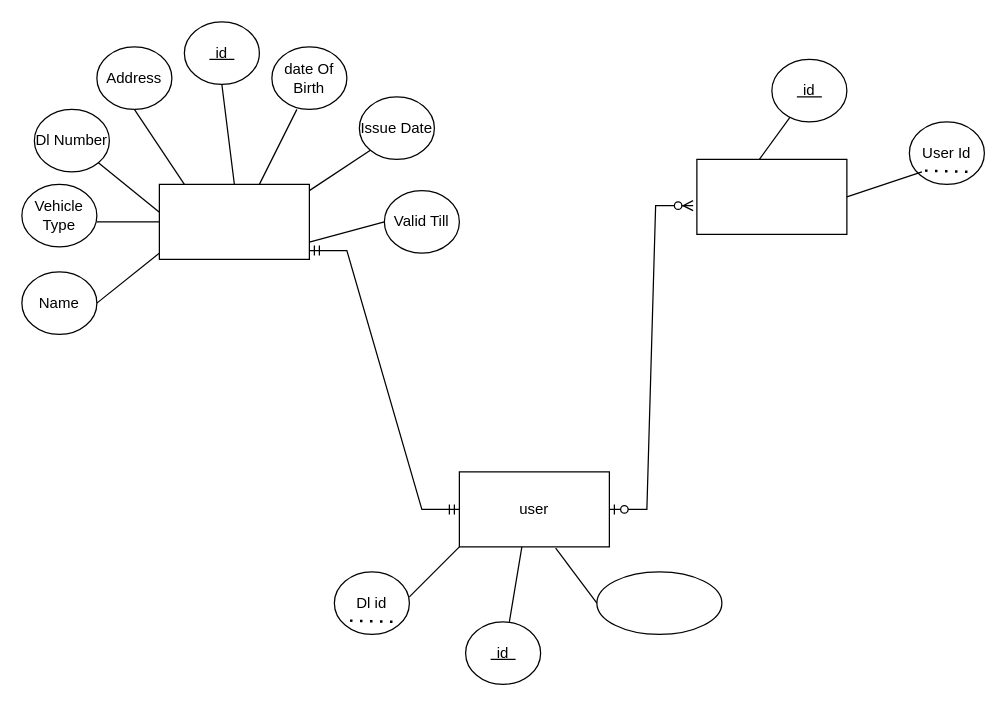
This 1006x706 diagram has some shape labels left out. The shapes that lost their labels are listed below. From the top down, each one's centre as x and y in pixels, then its label:
[771,196]: police
[233,221]: Driving License
[659,602]: PhoneNumbe
